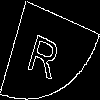R: (25, 25, 64, 80)
